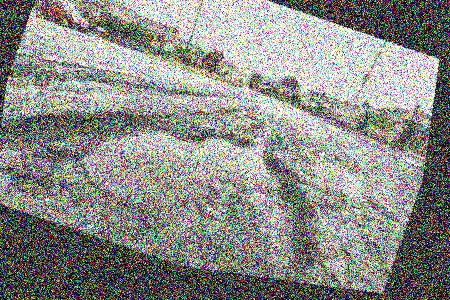pothole: (0, 54, 360, 287)
